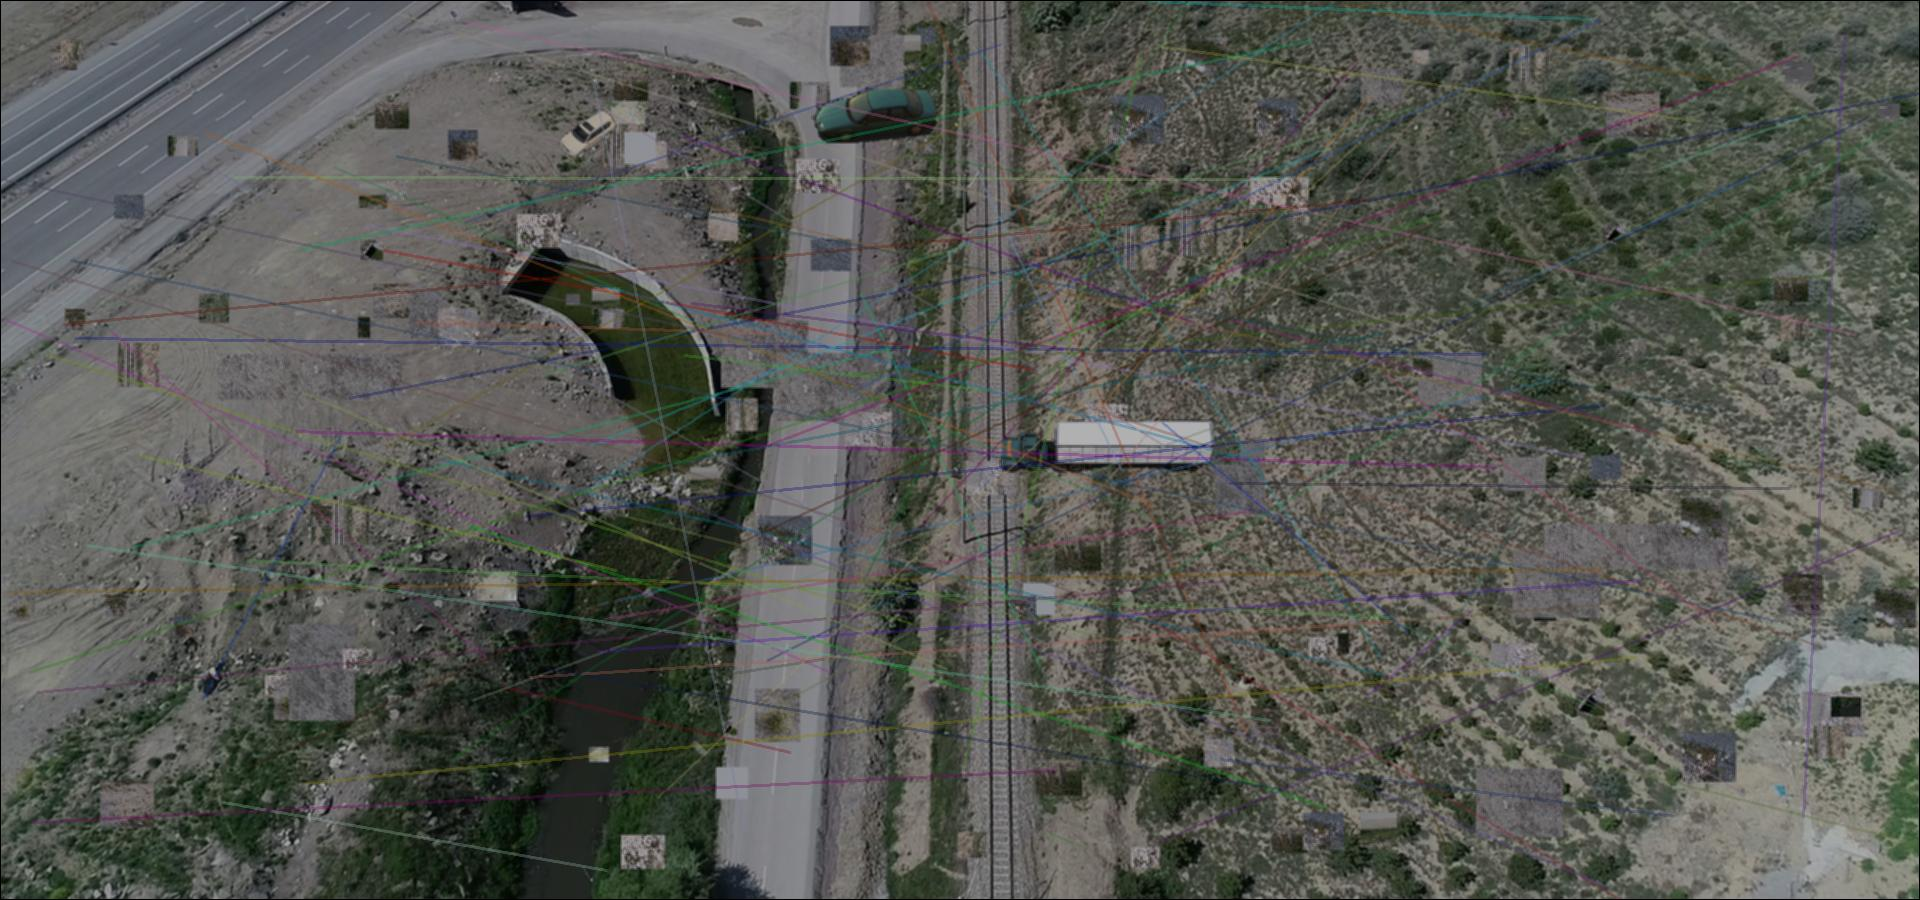arac: (1000, 418, 1215, 475), (812, 89, 938, 143), (558, 110, 618, 158)
